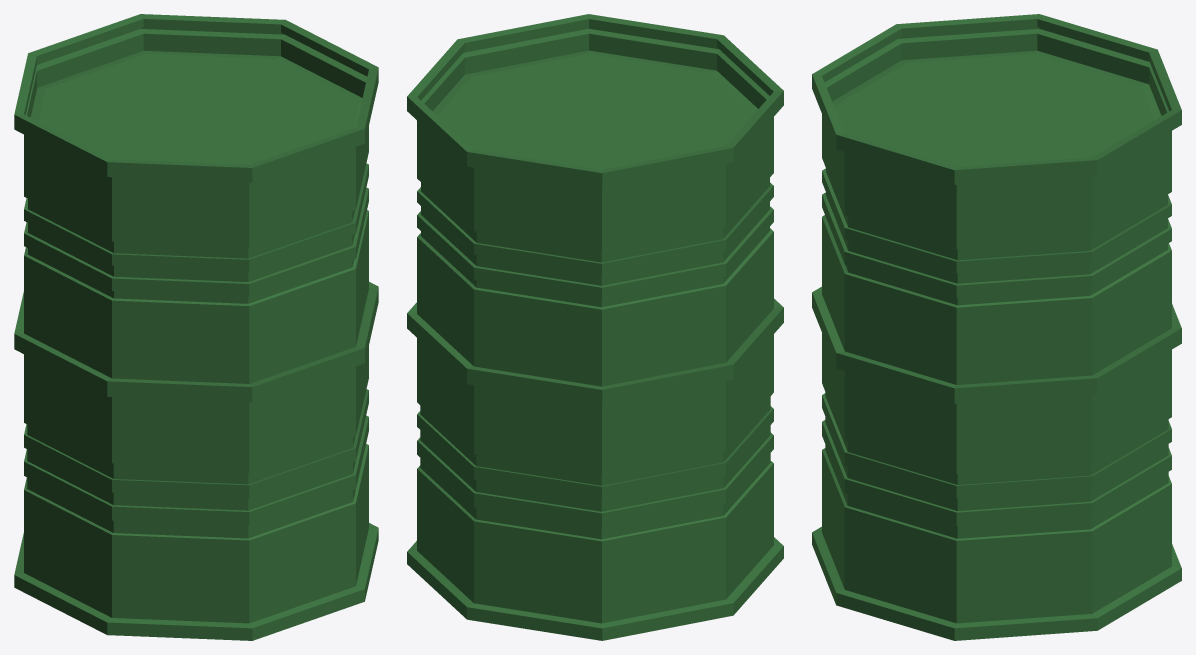
The model's file is BarrelOpen.fbx.
The picture shows the model from 3 angles, left to right: view 1: azimuth 30°, elevation 25°; view 2: azimuth 150°, elevation 25°; view 3: azimuth 270°, elevation 25°; orthographic projection.
Parts seen in each view (by area): view 1: pCylinder17, pCylinder17.001; view 2: pCylinder17, pCylinder17.001; view 3: pCylinder17, pCylinder17.001.
Boxes of the visible parts, x1,y1,x2,y2 form: pCylinder17: (14,14,378,640); pCylinder17.001: (30,50,362,164); pCylinder17: (407,14,783,640); pCylinder17.001: (432,50,757,169); pCylinder17: (812,14,1181,640); pCylinder17.001: (832,50,1161,166).
Bounding box in the file's own units: 185 × 259 × 185.
